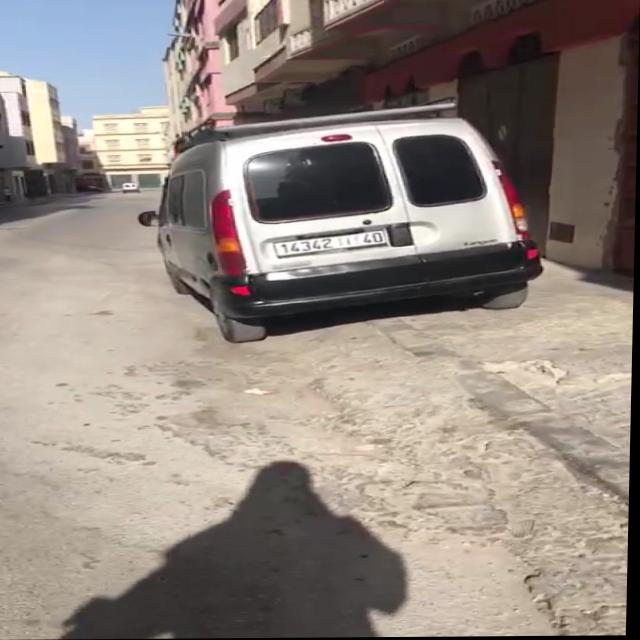License-Plate: (278, 230, 389, 256)
